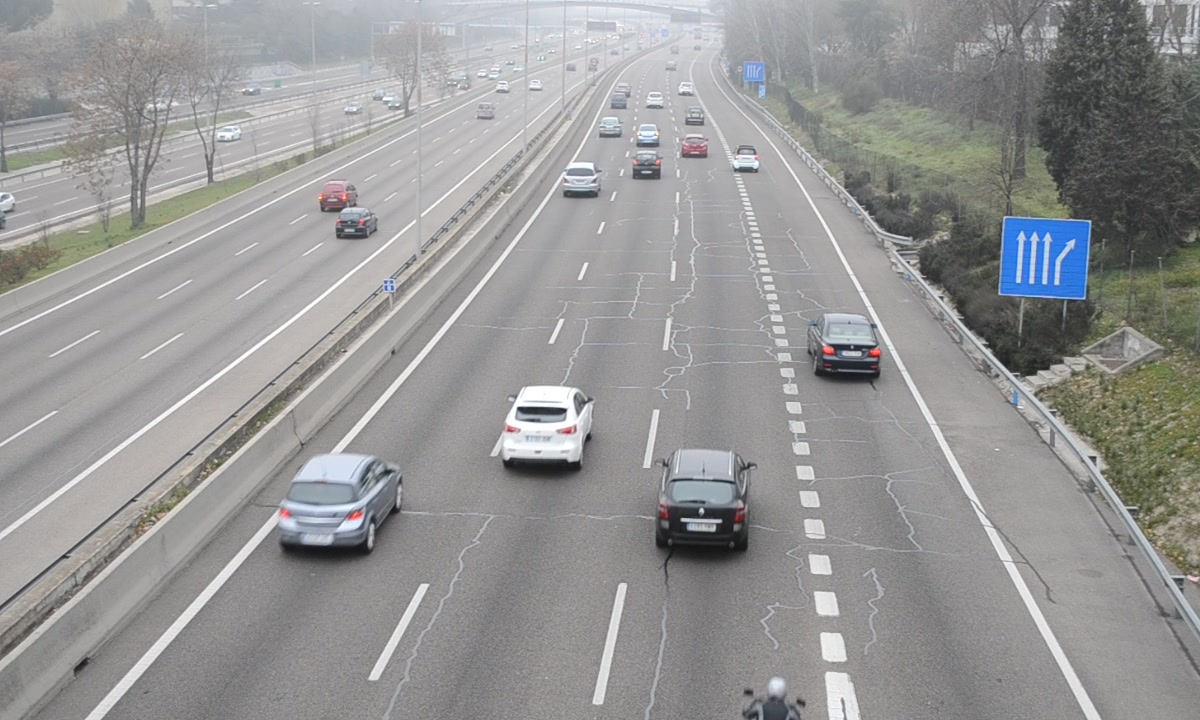car: (281, 453, 403, 559), (657, 447, 750, 554), (501, 385, 597, 464), (807, 312, 886, 382), (561, 163, 602, 199), (633, 149, 662, 180), (732, 143, 760, 174), (682, 134, 710, 159), (635, 123, 661, 149), (597, 116, 623, 140)
